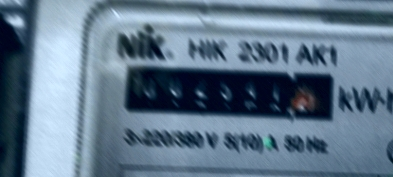0: (139, 72, 159, 99), (167, 71, 183, 99)
1: (267, 74, 282, 102)
2: (192, 72, 209, 98)
4: (244, 74, 258, 98)
5: (216, 73, 236, 101)
6: (294, 93, 310, 112)
screen: (112, 49, 349, 133)
